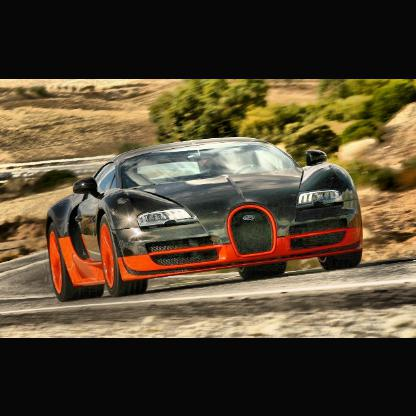Bugatti Veyron 16-4 Coupe 2009: (47, 136, 366, 302)
